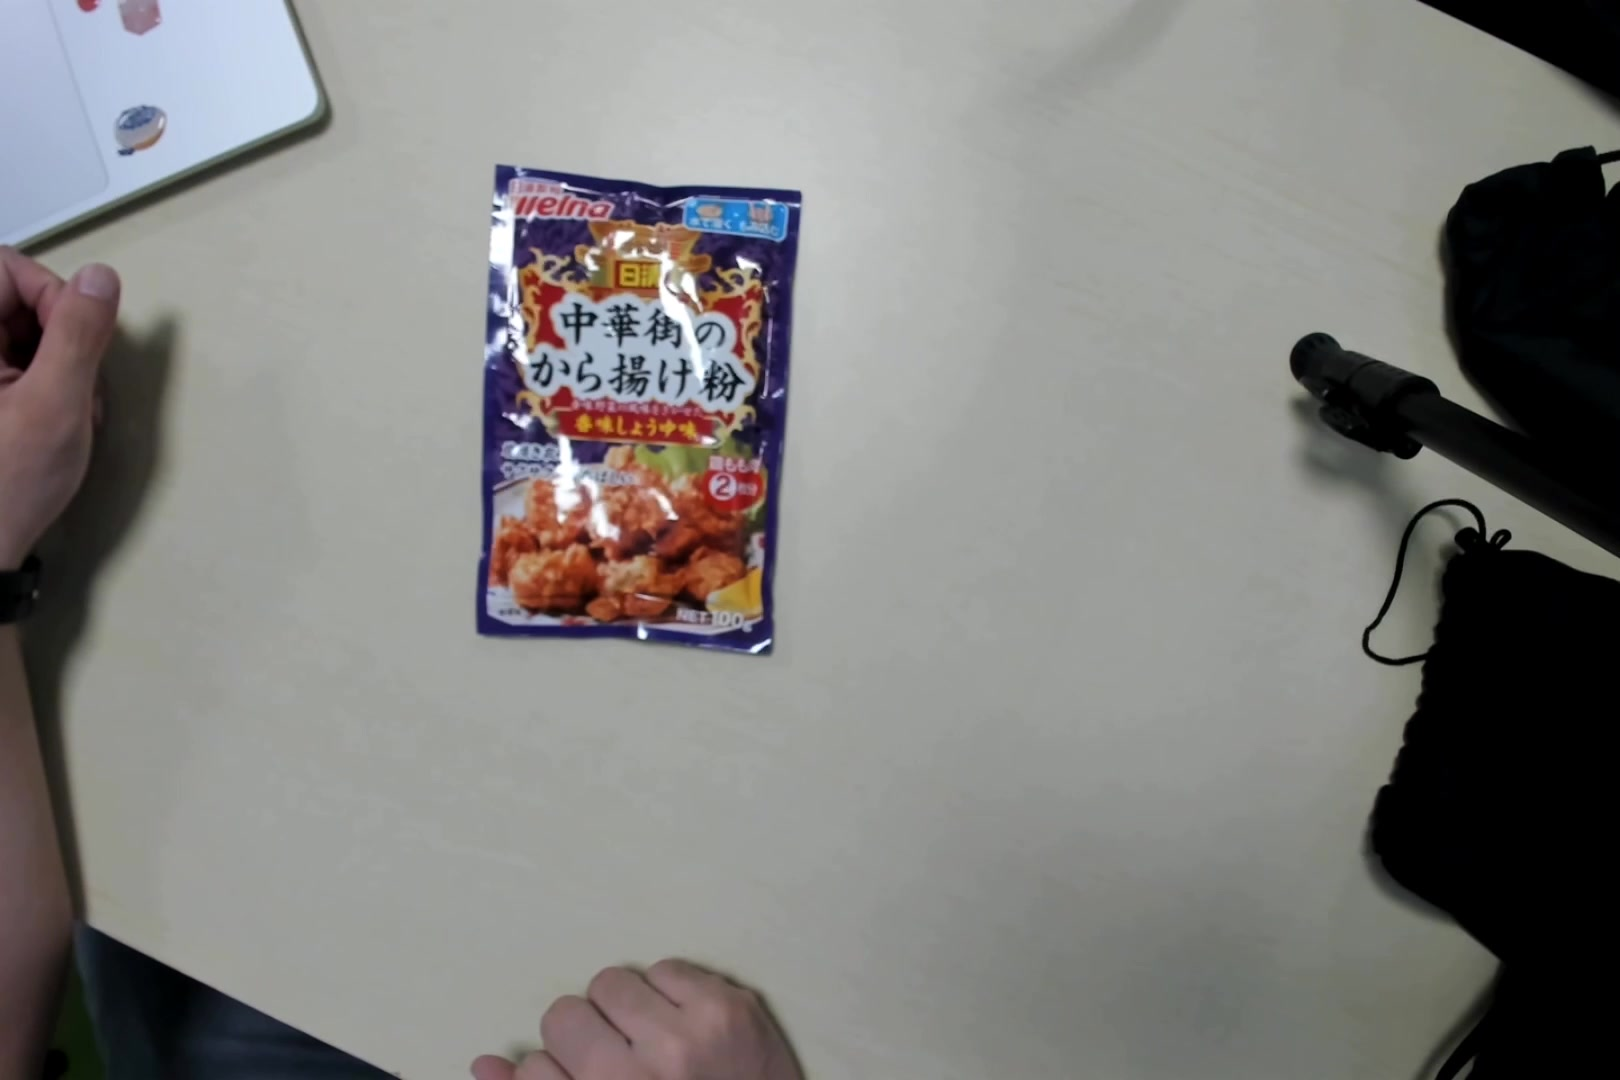OtherBakingNeeds_100-199g_NonHalal_NonHealthy: (480, 158, 799, 655)
